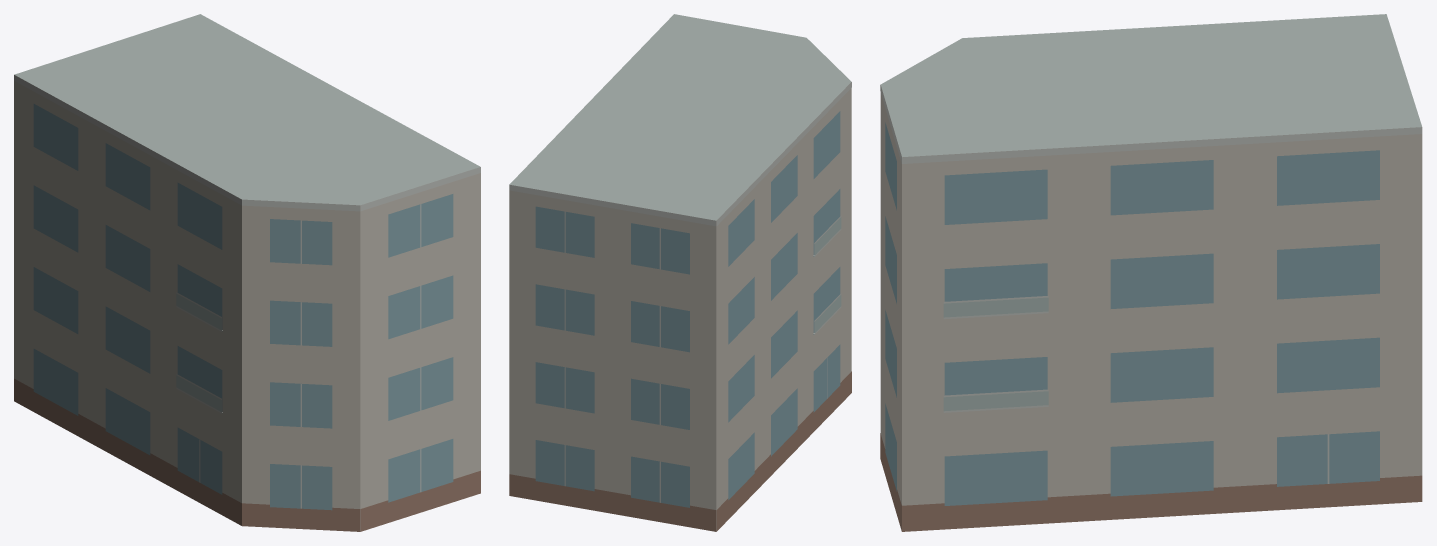
File: survey-upis-32576120.glb
3 views of the same model, side by side, from view 1: azimuth 30°, elevation 25°; view 2: azimuth 150°, elevation 25°; view 3: azimuth 270°, elevation 25° (orthographic). The views are drawn at different scales.
Parts seen in each view (by area): view 1: survey-upis-32576120.tmp; view 2: survey-upis-32576120.tmp; view 3: survey-upis-32576120.tmp.
Part boxes in pixels (left/top/right/bottom): survey-upis-32576120.tmp: left=14, top=14, right=480, bottom=531; survey-upis-32576120.tmp: left=509, top=14, right=851, bottom=531; survey-upis-32576120.tmp: left=880, top=14, right=1422, bottom=531.
Size of the model in its own units: 10.77 by 13.13 by 17.21.
